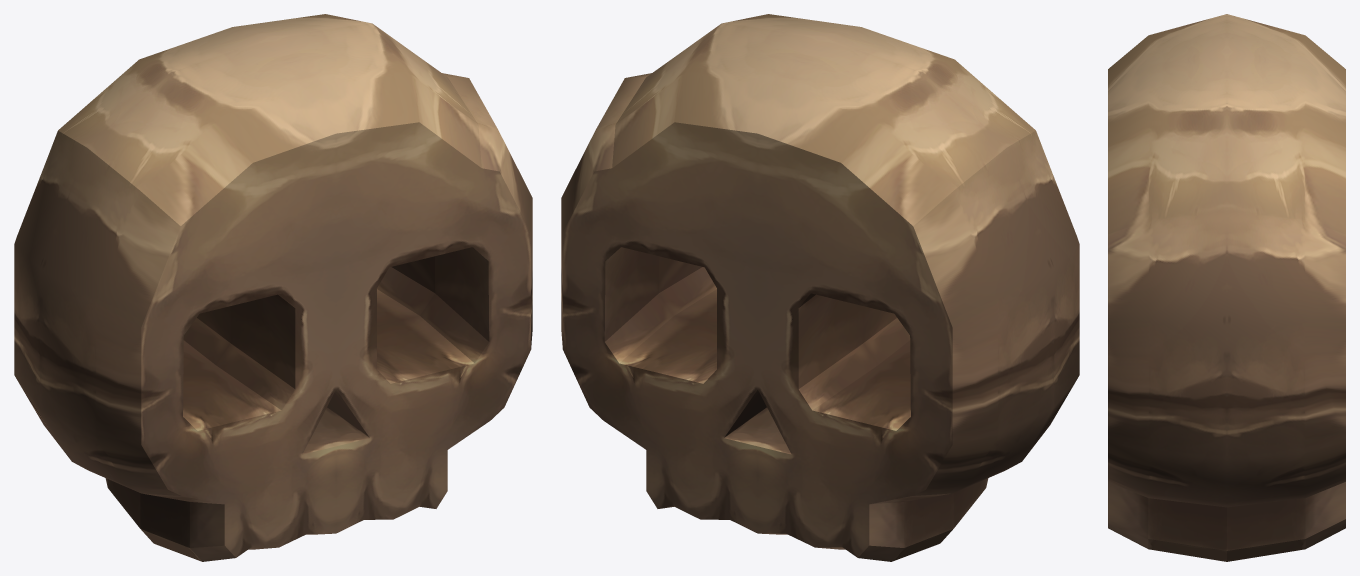
The model's file is 78_skull.FBX.
The picture shows the model from 3 angles, left to right: view 1: azimuth 30°, elevation 25°; view 2: azimuth 150°, elevation 25°; view 3: azimuth 270°, elevation 25°; orthographic projection. The views are drawn at different scales.
Parts seen in each view (by area): view 1: Box013; view 2: Box013; view 3: Box013.
Boxes of the visible parts, bbox=[...] form: Box013: bbox=[14, 14, 532, 561]; Box013: bbox=[561, 14, 1079, 561]; Box013: bbox=[1108, 14, 1345, 561].
Bounding box in the file's own units: 44.26 × 43.37 × 20.51.
